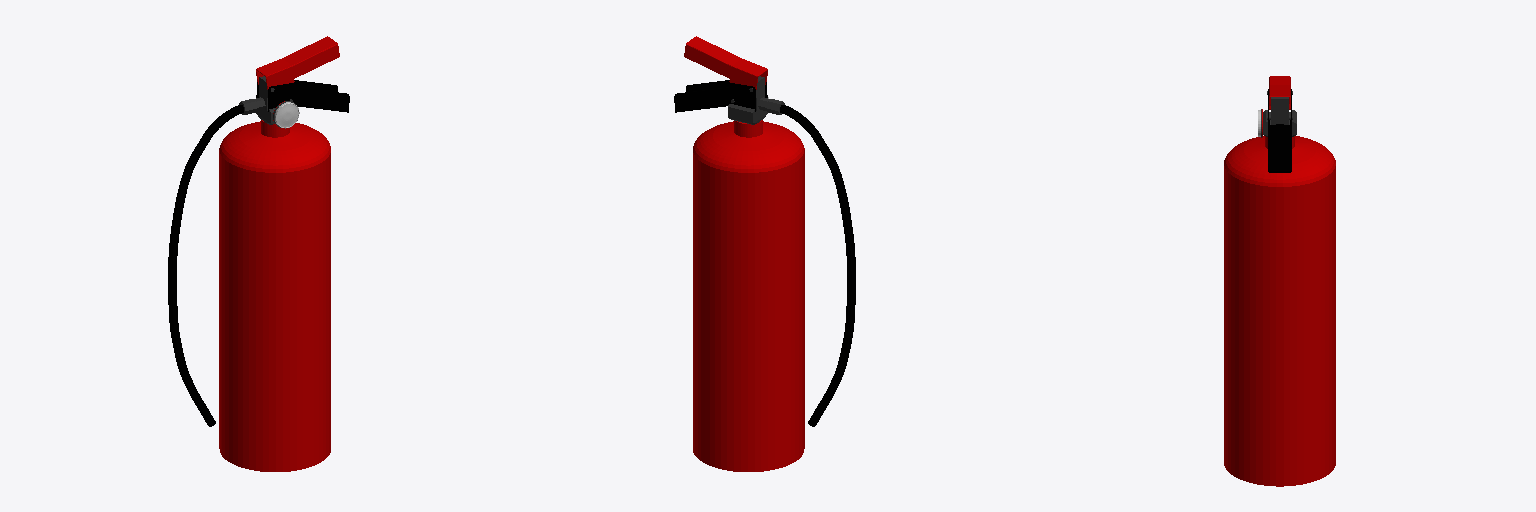
Rendered from extintor.obj.
3 views of the same model, side by side, from view 1: azimuth 30°, elevation 25°; view 2: azimuth 150°, elevation 25°; view 3: azimuth 270°, elevation 25° (orthographic).
Visible parts, largest first — view 1: Cuerpo_Base_red_0, BezierCurve_Base_Black_0, Quijadaa_Base_red_0, Quijadab_Base_Black_0; view 2: Cuerpo_Base_red_0, BezierCurve_Base_Black_0, Quijadaa_Base_red_0, Quijadab_Base_Black_0, Shunke_Material.002_0; view 3: Cuerpo_Base_red_0, Quijadab_Base_Black_0, Shunke_Material.002_0.
Boxes of the visible parts, box(x1,y1,x2,y2) form: Cuerpo_Base_red_0: box(219, 120, 330, 471); BezierCurve_Base_Black_0: box(168, 105, 243, 426); Quijadaa_Base_red_0: box(256, 36, 339, 89); Quijadab_Base_Black_0: box(256, 80, 349, 112); Cuerpo_Base_red_0: box(693, 120, 804, 471); BezierCurve_Base_Black_0: box(780, 105, 855, 426); Quijadaa_Base_red_0: box(684, 36, 767, 89); Quijadab_Base_Black_0: box(674, 80, 767, 112); Shunke_Material.002_0: box(728, 76, 767, 124); Cuerpo_Base_red_0: box(1224, 136, 1335, 486); Quijadab_Base_Black_0: box(1268, 89, 1291, 172); Shunke_Material.002_0: box(1263, 97, 1296, 136).
Size of the model in its own units: 36.16 by 77.89 by 20.